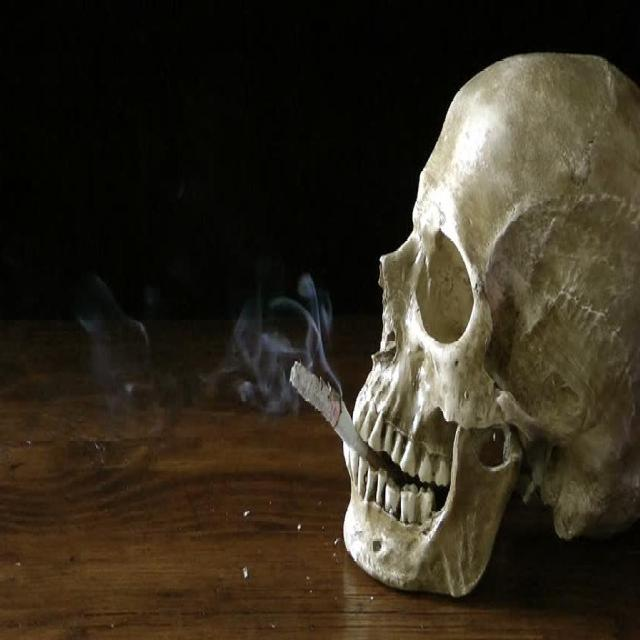smoking: (246, 298, 455, 542)
